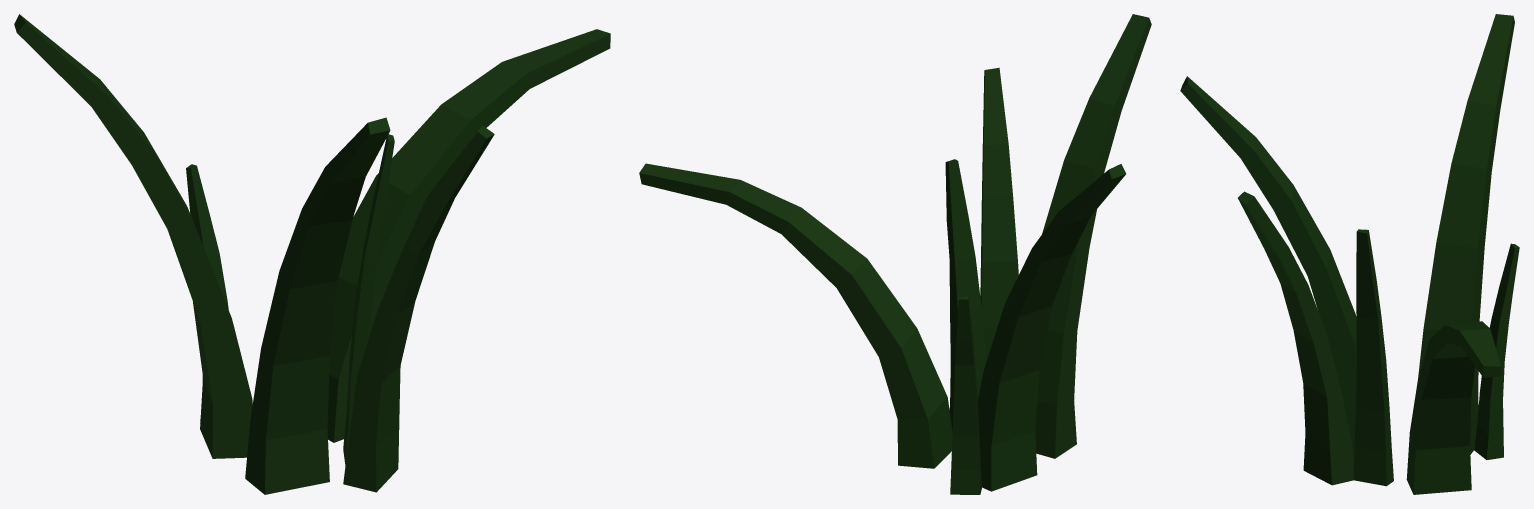
The model's file is grass003_grass2_0_lev1.glb.
The picture shows the model from 3 angles, left to right: view 1: azimuth 30°, elevation 25°; view 2: azimuth 150°, elevation 25°; view 3: azimuth 270°, elevation 25°; orthographic projection. The views are drawn at different scales.
Visible parts, largest first — view 1: grass003_grass2_0_lev1; view 2: grass003_grass2_0_lev1; view 3: grass003_grass2_0_lev1.
Part boxes in pixels (<box>): grass003_grass2_0_lev1: <box>14,14,610,494</box>; grass003_grass2_0_lev1: <box>639,14,1151,494</box>; grass003_grass2_0_lev1: <box>1180,14,1519,494</box>.
Size of the model in its own units: 0.3365 by 0.2436 by 0.2056.
